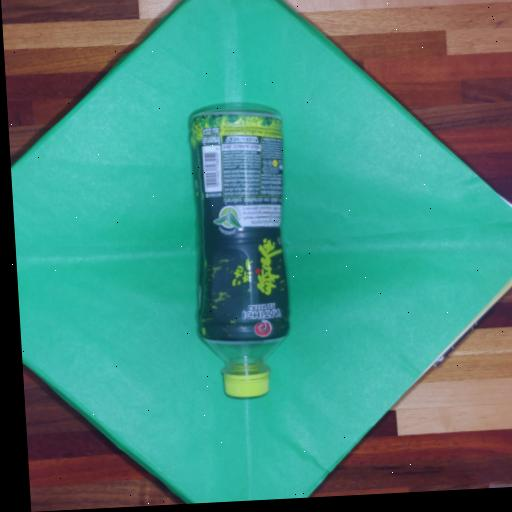bottle: (166, 92, 319, 443)
